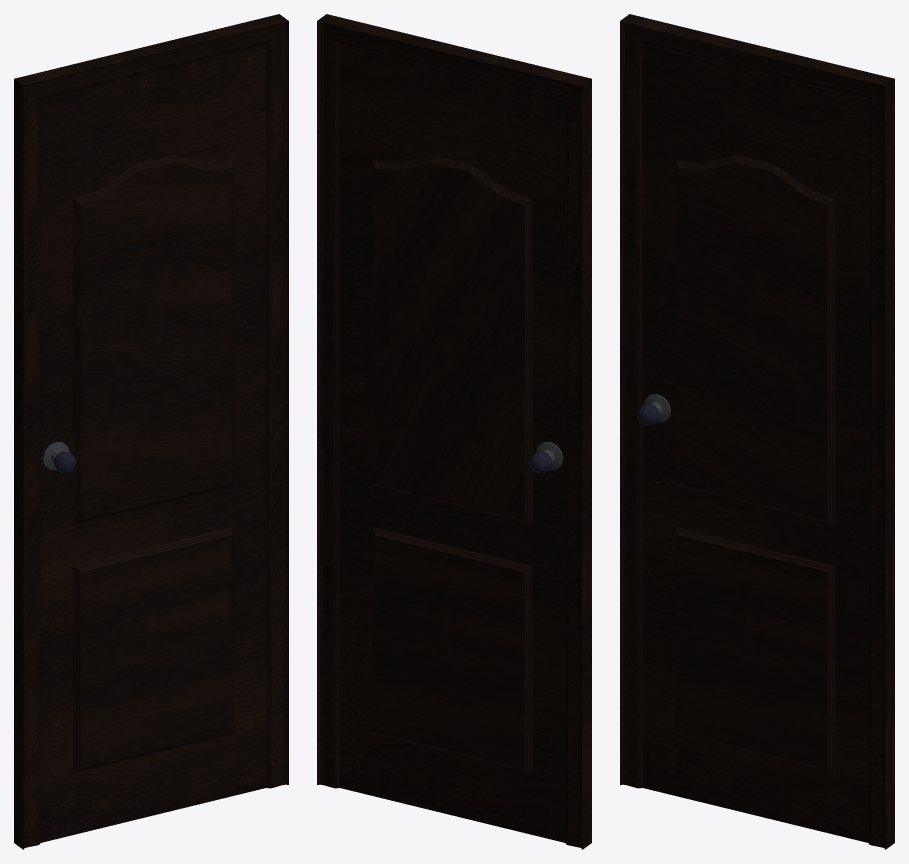
The model's file is door_inside.glb.
The picture shows the model from 3 angles, left to right: view 1: azimuth 30°, elevation 25°; view 2: azimuth 150°, elevation 25°; view 3: azimuth 330°, elevation 25°; orthographic projection.
Visible parts, largest first — view 1: Layer:1 body; view 2: Layer:1 body; view 3: Layer:1 body.
Boxes of the visible parts, left/top/right/bottom form: Layer:1 body: left=14, top=14, right=288, bottom=849; Layer:1 body: left=317, top=14, right=591, bottom=849; Layer:1 body: left=620, top=14, right=894, bottom=849.
Bounding box in the file's own units: 0.7995 × 2.2 × 0.1775.
3 materials, 3 textured.
